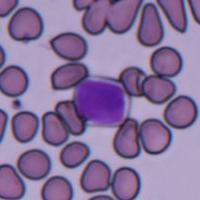L: (74, 76, 130, 127)
